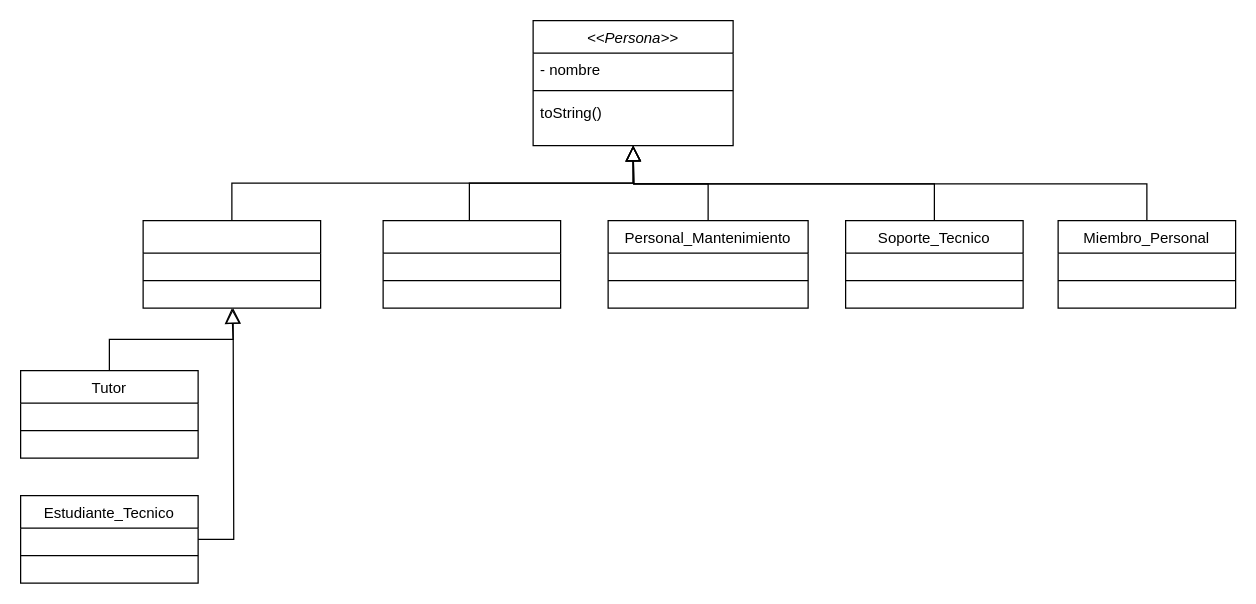
Image size: 1256x604. Some labels were removed from this diagram. Here are the shapes that lost their labels. From the top down, the centre of each, then its label:
At (x=231, y=263): "Estudiante".
At (x=471, y=263): "Profesor".
